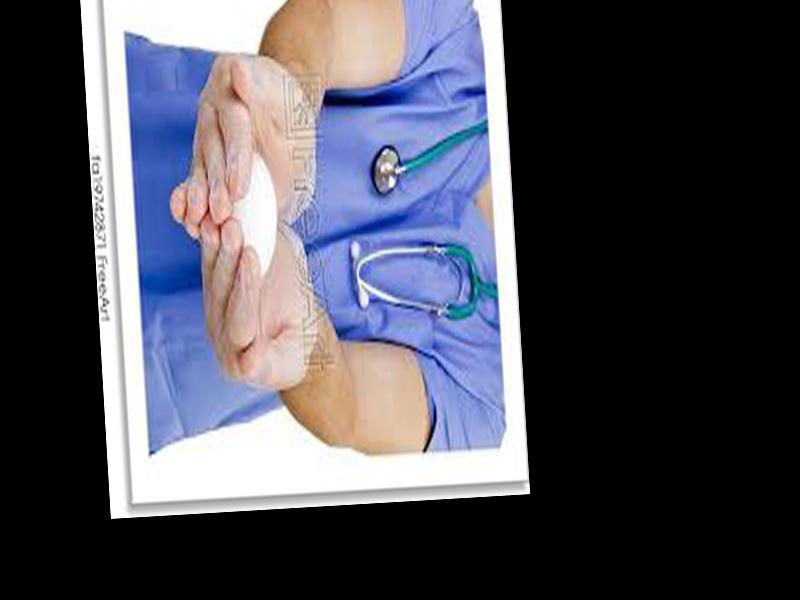Eggs: (226, 155, 281, 279)
